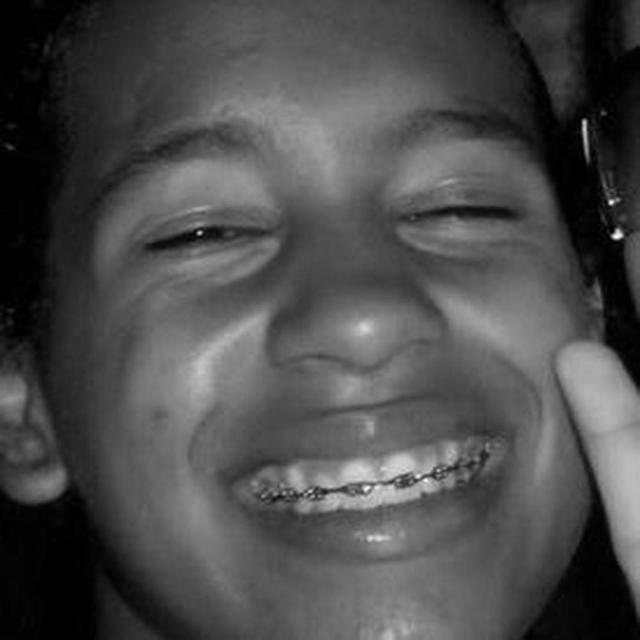real: (29, 3, 596, 640), (101, 152, 557, 272)
